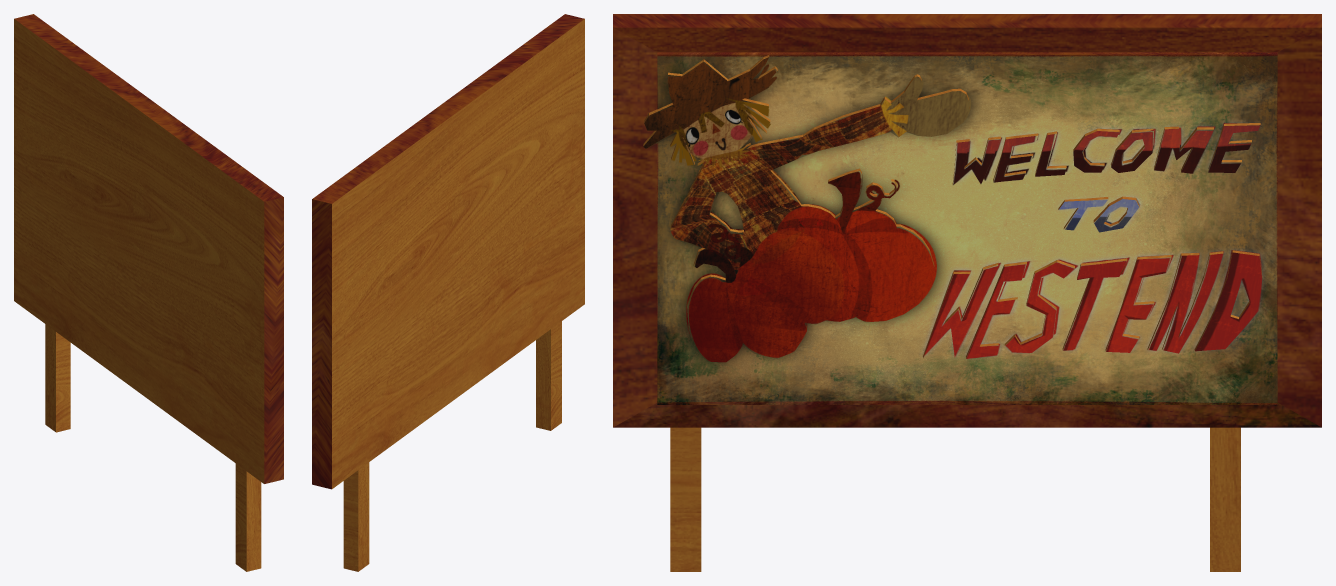
The model's file is Town Sign.fbx.
The picture shows the model from 3 angles, left to right: view 1: azimuth 30°, elevation 25°; view 2: azimuth 150°, elevation 25°; view 3: azimuth 270°, elevation 25°; orthographic projection. The views are drawn at different scales.
Visible parts, largest first — view 1: Town_Entrance_Sign; view 2: Town_Entrance_Sign; view 3: Town_Entrance_Sign, Front_Design.
Part boxes in pixels (x1,y1,x2,y2): Town_Entrance_Sign: [14, 14, 283, 571]; Town_Entrance_Sign: [312, 14, 584, 571]; Town_Entrance_Sign: [613, 14, 1321, 571]; Front_Design: [643, 55, 1262, 362].
Size of the model in its own units: 32.55 by 457 by 538.
